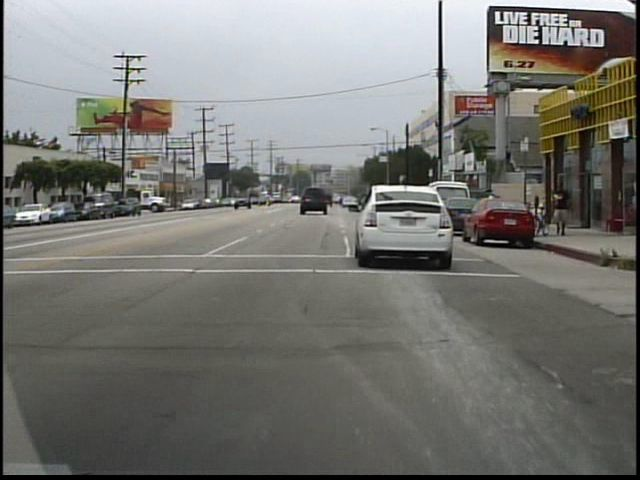person: (549, 175, 574, 241)
